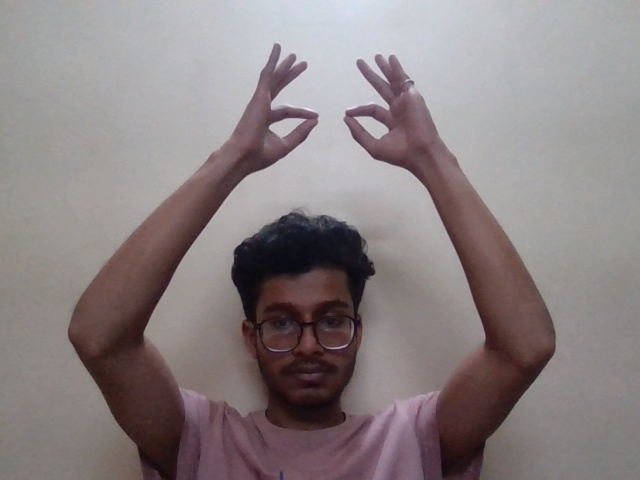nice: (192, 24, 467, 188)
